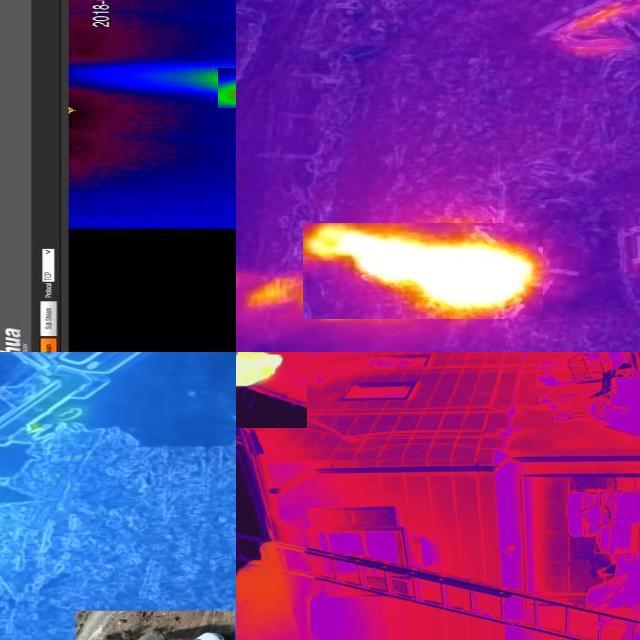fire: (303, 224, 543, 320), (237, 353, 285, 392)
